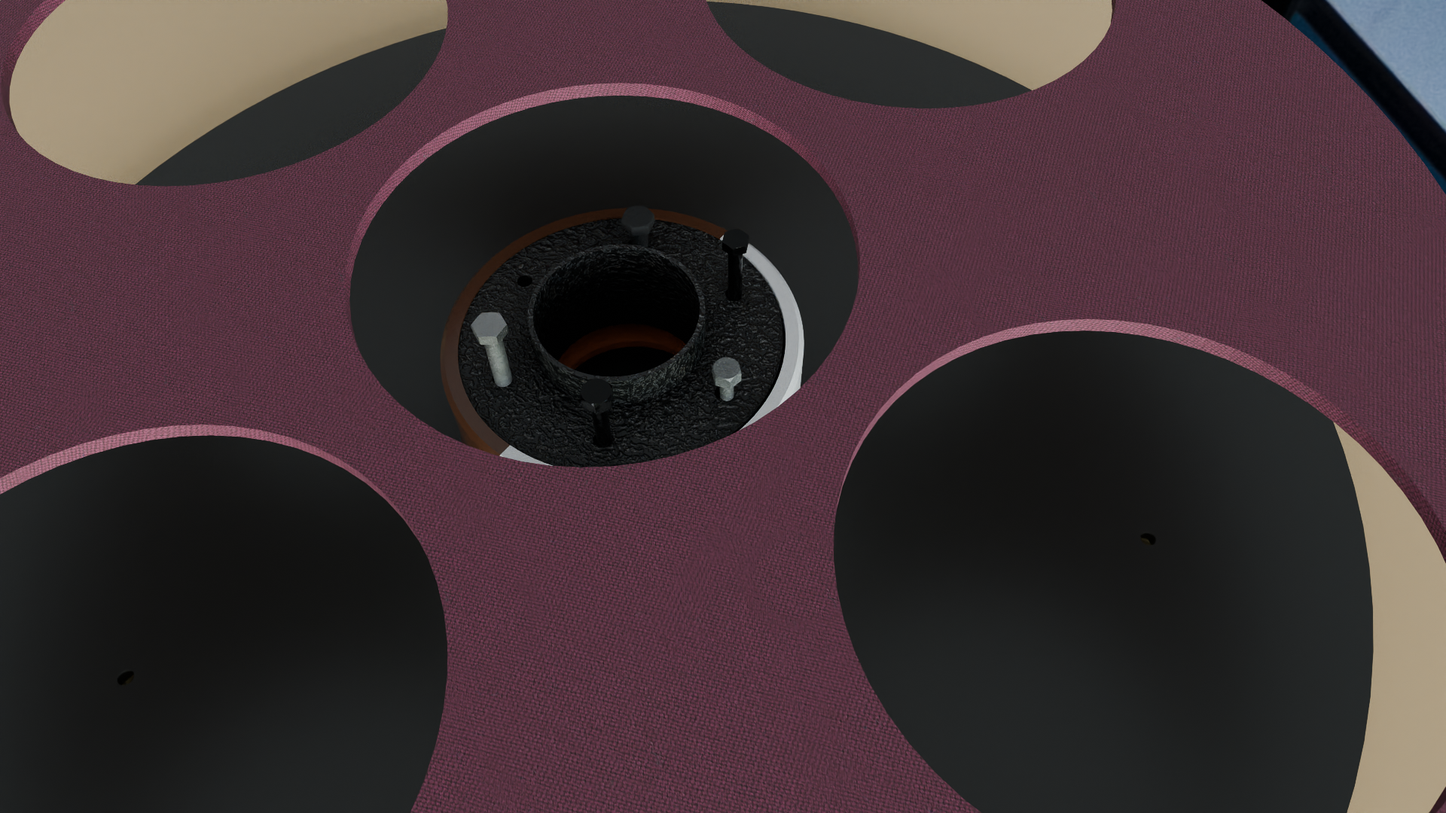bolt: (471, 312, 507, 337), (581, 379, 612, 407), (621, 206, 654, 228), (712, 358, 741, 382), (722, 229, 749, 250)
